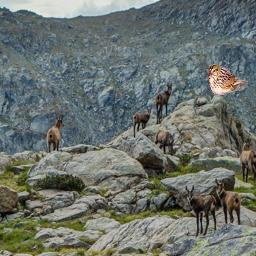Sparrow: (208, 64, 248, 95)
